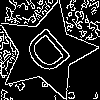D: (21, 26, 80, 85)
